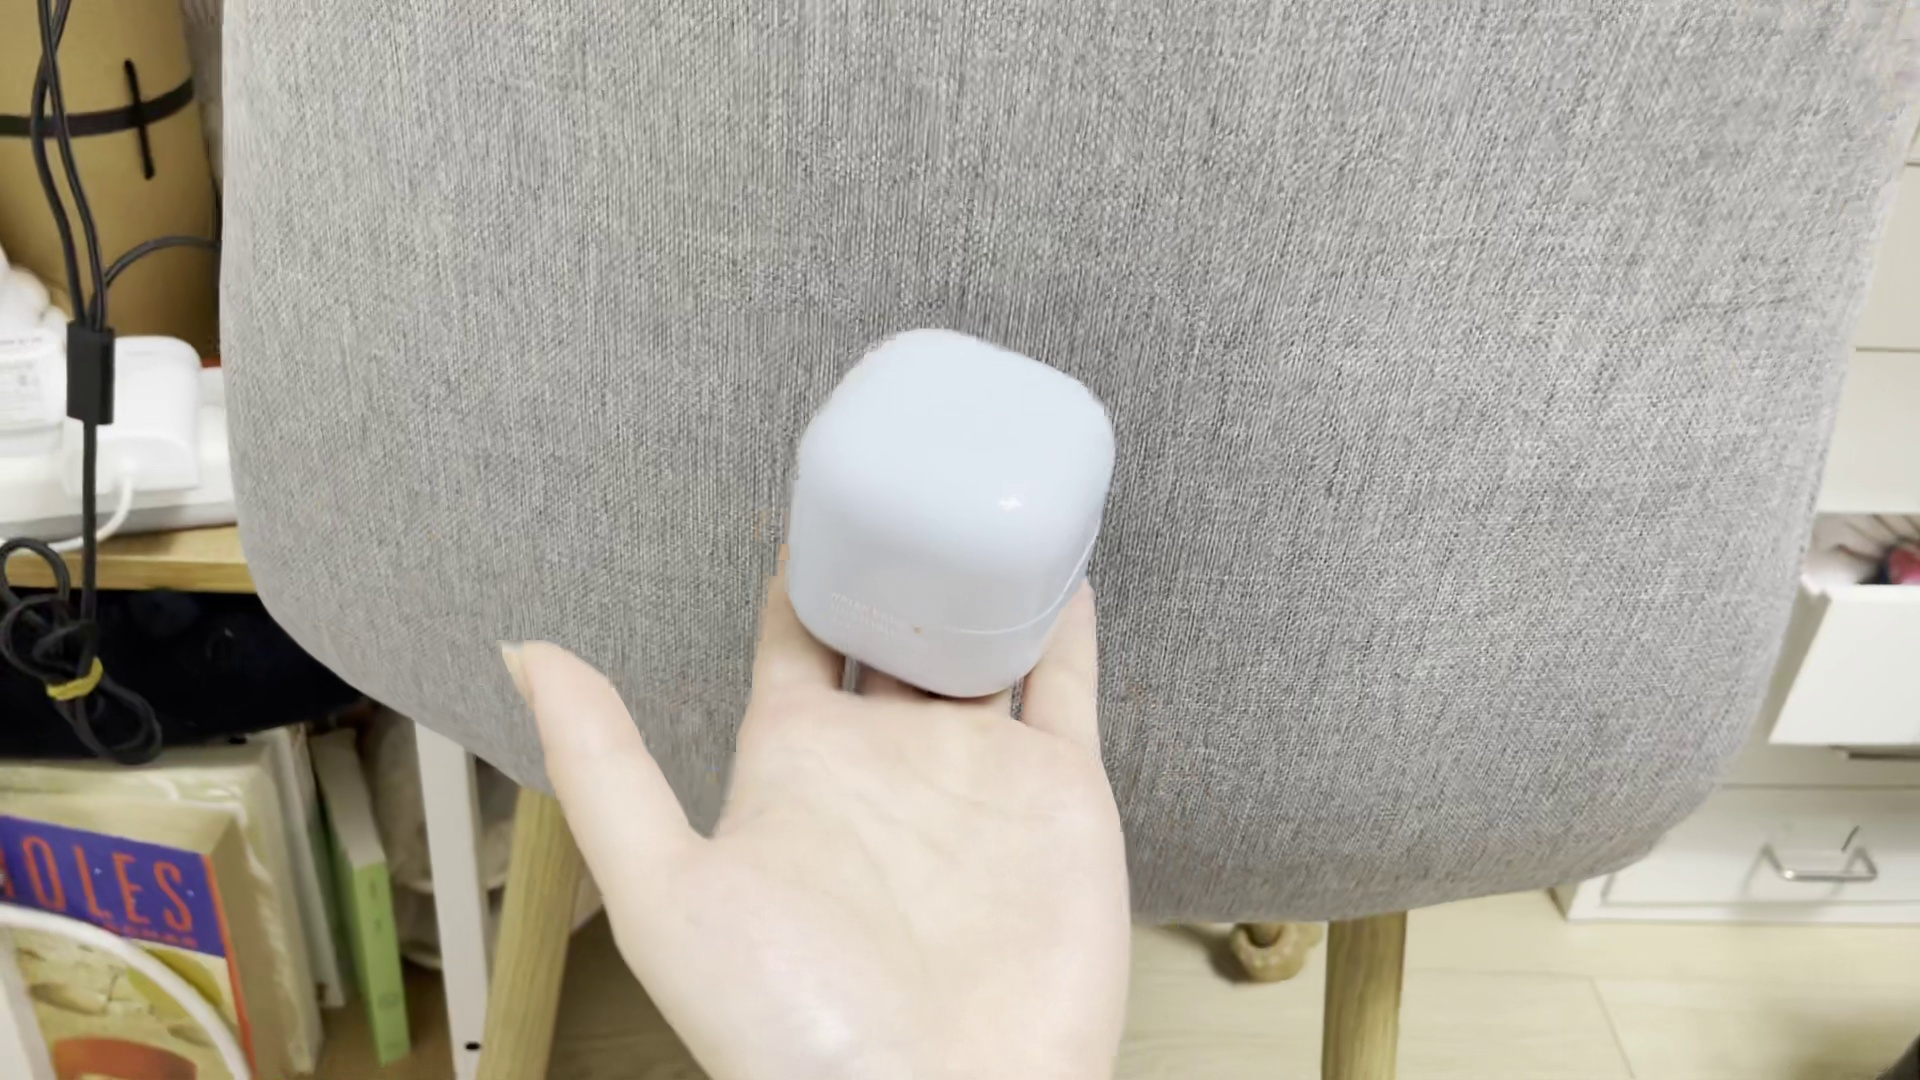cream: (785, 324, 1110, 698)
